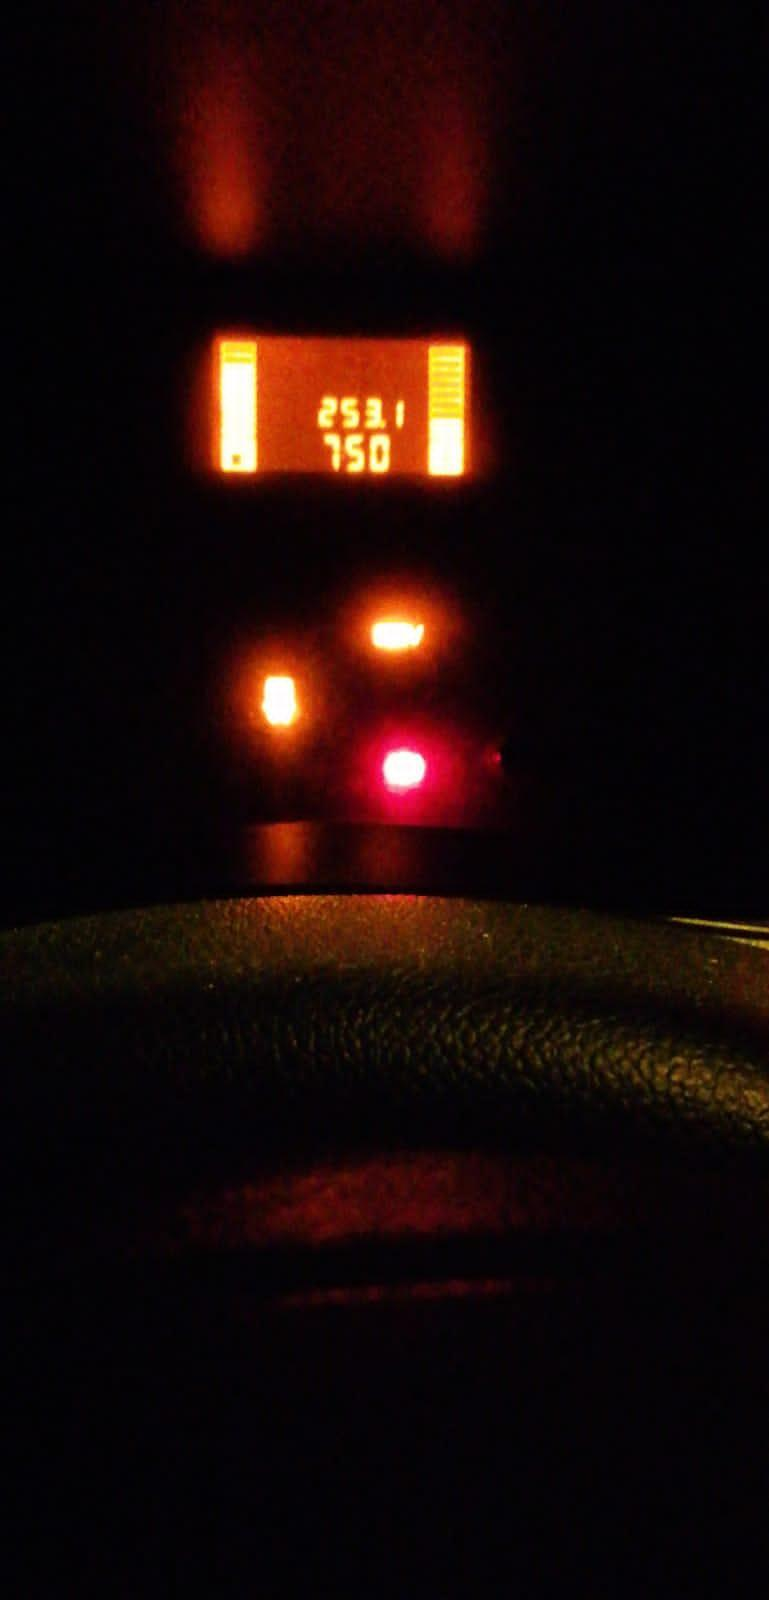,: (378, 418, 388, 430)
0: (368, 433, 391, 474)
1: (394, 398, 406, 431)
2: (316, 395, 337, 430)
3: (363, 397, 383, 429)
5: (343, 433, 366, 473), (339, 395, 361, 431)
7: (321, 432, 341, 472)
odometer: (207, 333, 471, 481)
